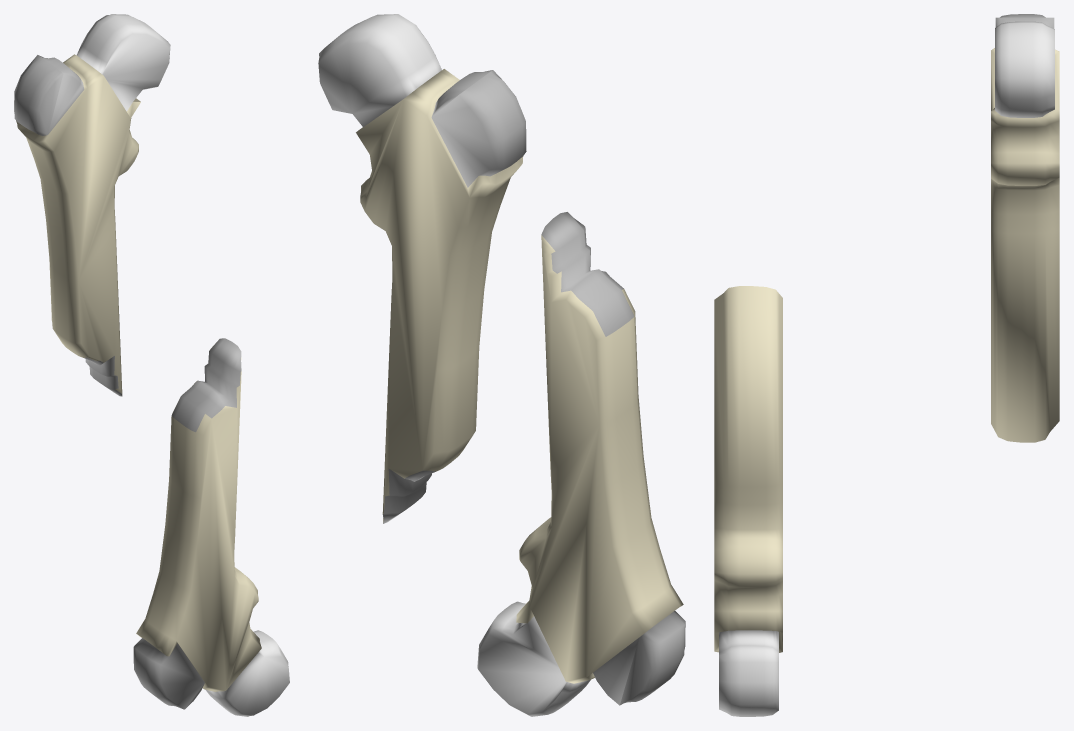
Rendered from bones.fbx.
The picture shows the model from 3 angles, left to right: view 1: azimuth 30°, elevation 25°; view 2: azimuth 150°, elevation 25°; view 3: azimuth 270°, elevation 25°; orthographic projection. The views are drawn at different scales.
Parts seen in each view (by area): view 1: Cube.002, Cube.001; view 2: Cube.002, Cube.001; view 3: Cube.001, Cube.002.
Boxes of the visible parts, bbox=[...] form: Cube.002: bbox=[133, 338, 289, 716]; Cube.001: bbox=[14, 14, 170, 396]; Cube.002: bbox=[477, 212, 685, 716]; Cube.001: bbox=[318, 14, 526, 523]; Cube.001: bbox=[991, 14, 1059, 442]; Cube.002: bbox=[714, 286, 782, 716].
Bounding box in the file's own units: 42.7 × 176 × 79.83.
